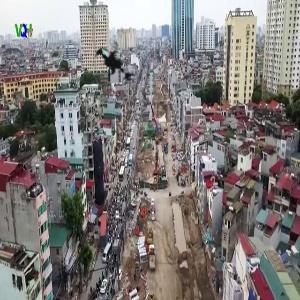drone: (83, 26, 155, 98)
